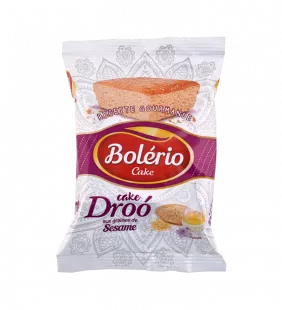BOLERIO: (46, 28, 236, 284)
